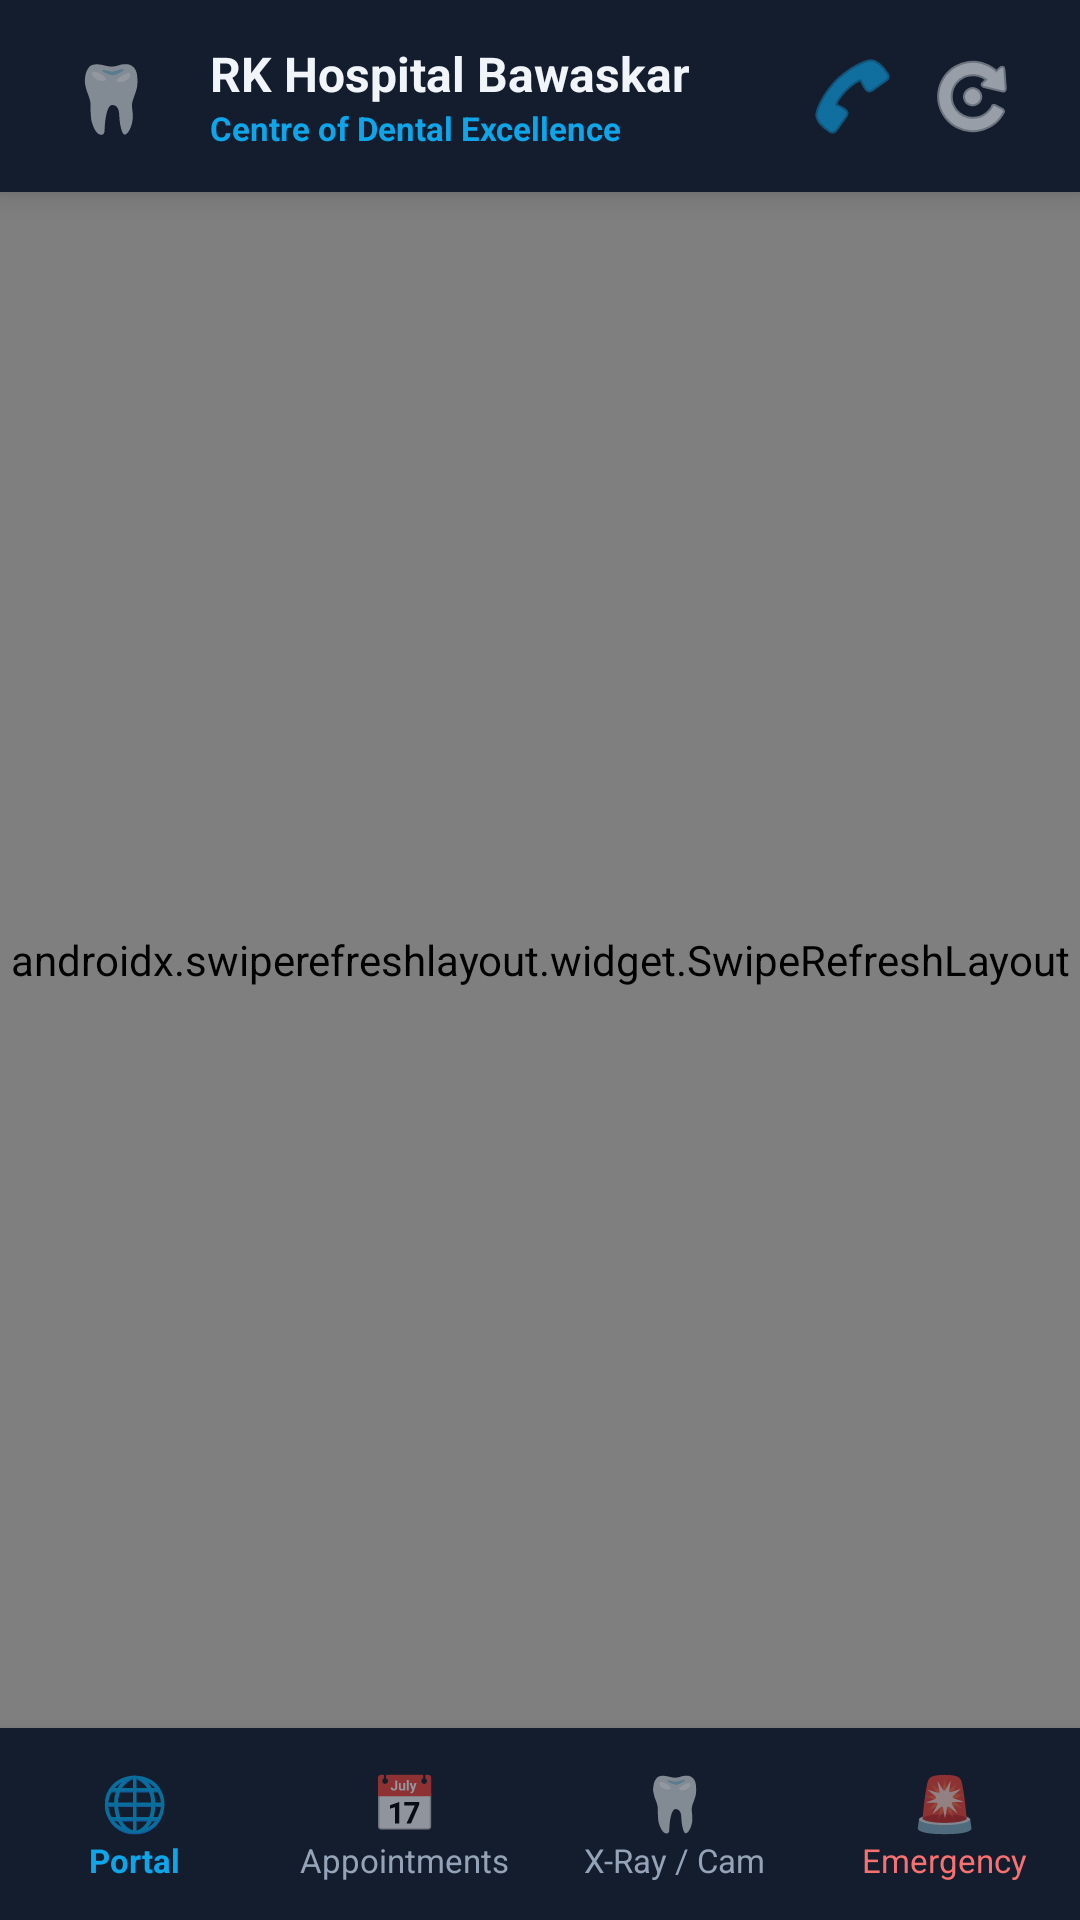

Locate icon controls on the screen. Image size 1080×1920, boxes as bbox(x1, y1, x2, y2).
Call Doctor: bbox(815, 59, 890, 134)
